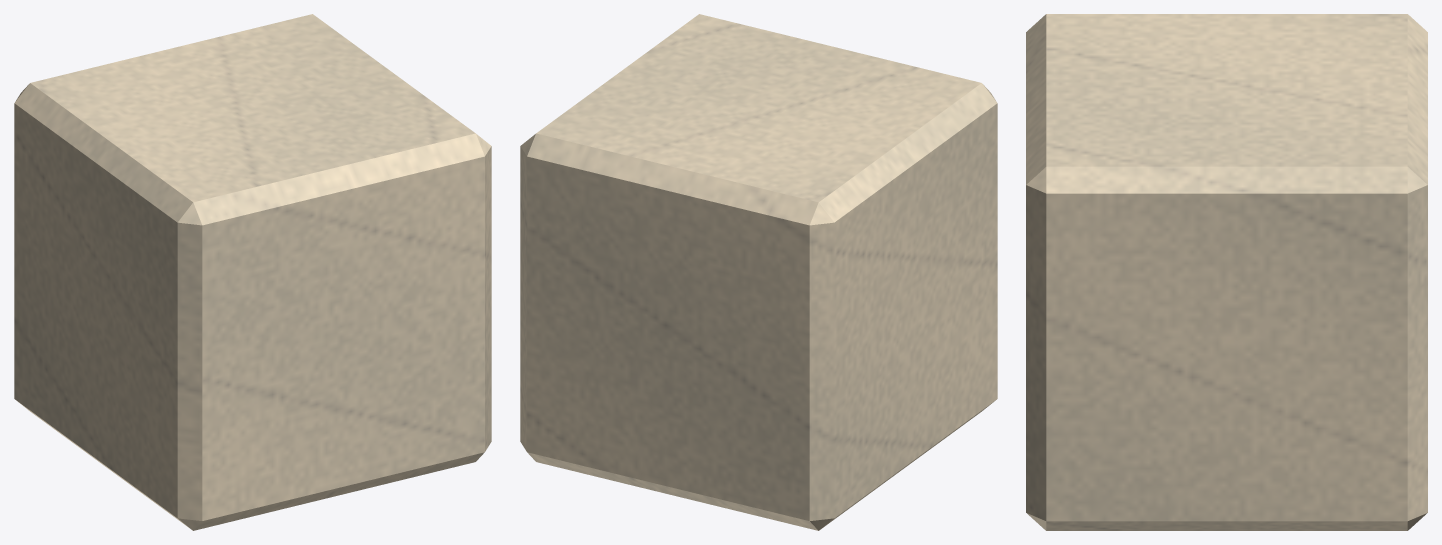
Rendered from TestBlock.obj.
3 views of the same model, side by side, from view 1: azimuth 30°, elevation 25°; view 2: azimuth 150°, elevation 25°; view 3: azimuth 270°, elevation 25° (orthographic). The views are drawn at different scales.
Visible parts, largest first — view 1: Cube; view 2: Cube; view 3: Cube.
Boxes of the visible parts, x1=… form: Cube: x1=14, y1=14, x2=491, y2=530; Cube: x1=520, y1=14, x2=997, y2=530; Cube: x1=1026, y1=14, x2=1427, y2=530.
Bounding box in the file's own units: 10 × 10 × 10.
1 material, 1 textured.
